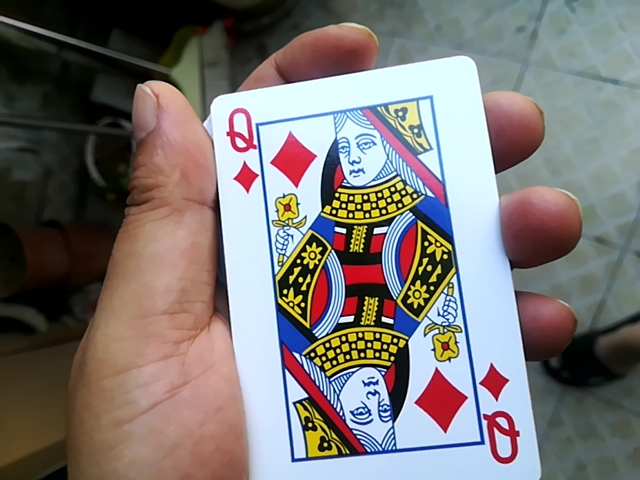fk q: (206, 52, 520, 475)
